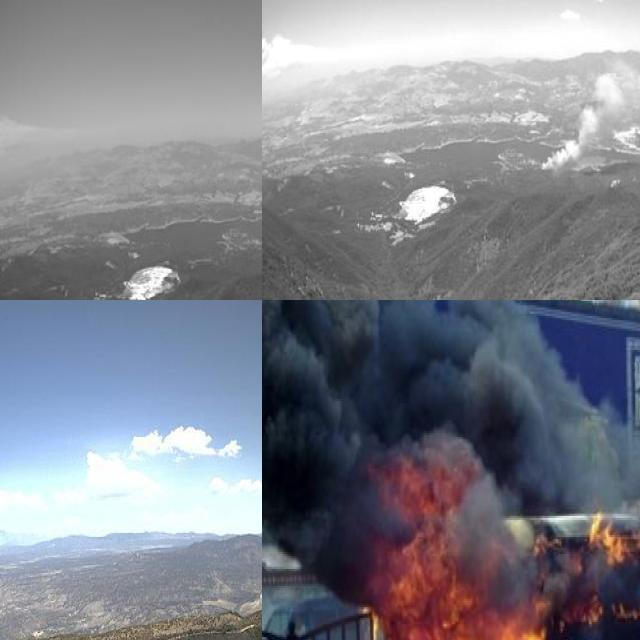fire: (366, 454, 640, 640)
smoke: (262, 300, 614, 509), (531, 58, 640, 172)
